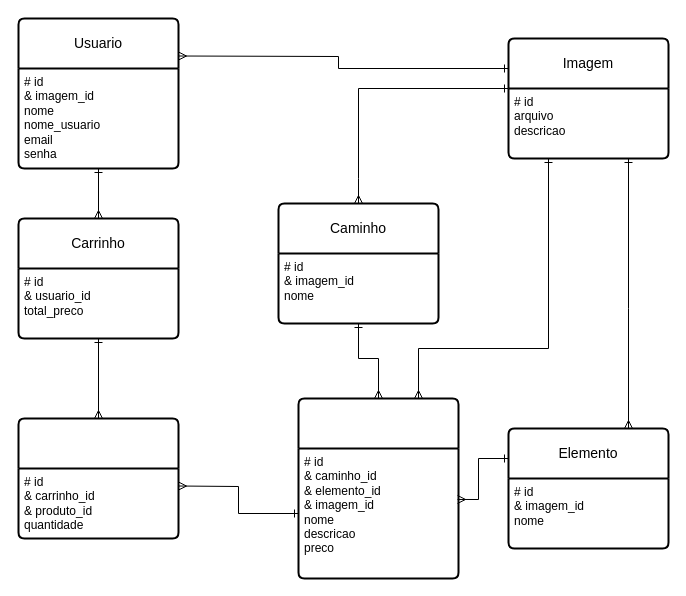
The diagram is 686 pixels wide and 596 high, and some of its shapes have lost their labels. The box of each missing label's shape, as (x1, y1, x2, y2) in pixels:
CarrinhoProduto: (17, 417, 179, 539)
Produto: (297, 397, 459, 579)
